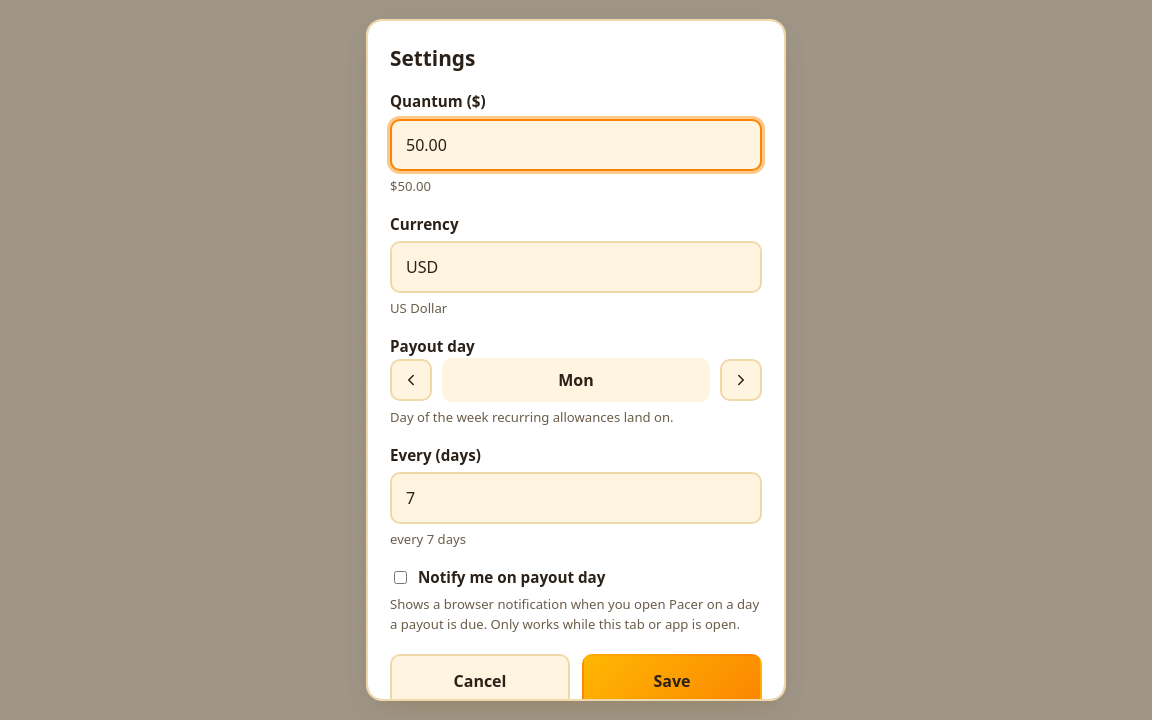
SettingsDialog › cycles the payout day with the chevrons
The image size is (1152, 720).
Click the button named "Next day" at (741, 380), box [720,359,762,401]
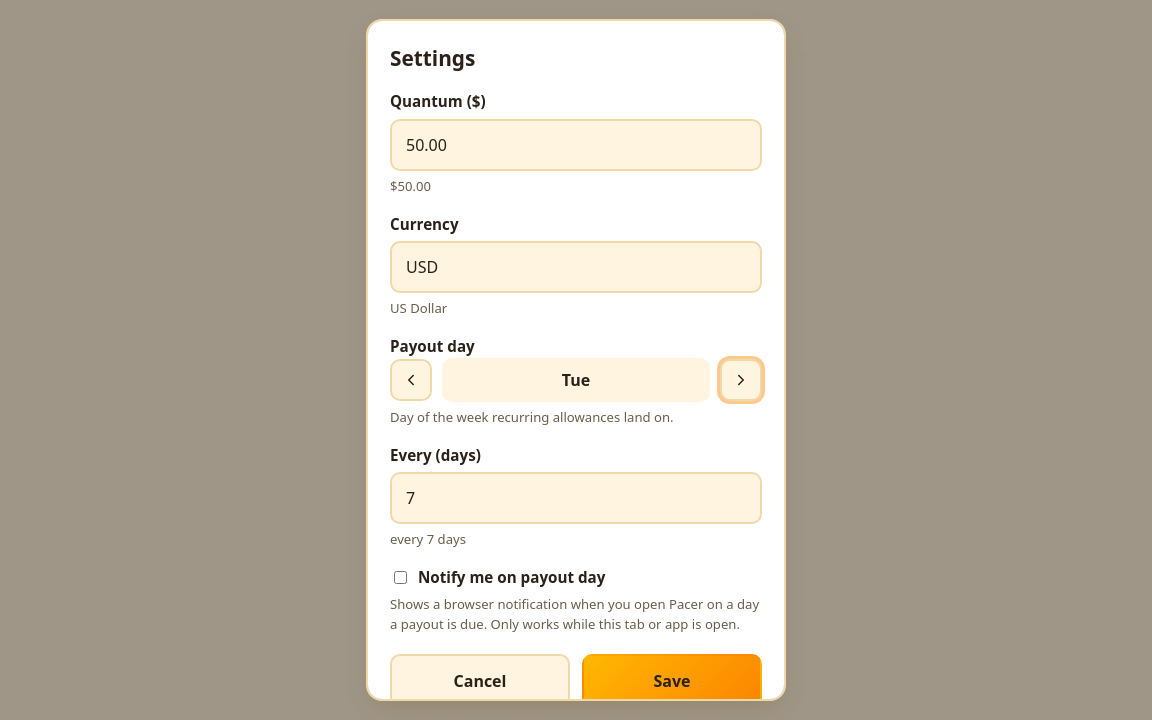
Check: the text "Tue" is shown, box [442,358,710,402]
Click the button named "Previous day" at (411, 380), box [390,359,432,401]
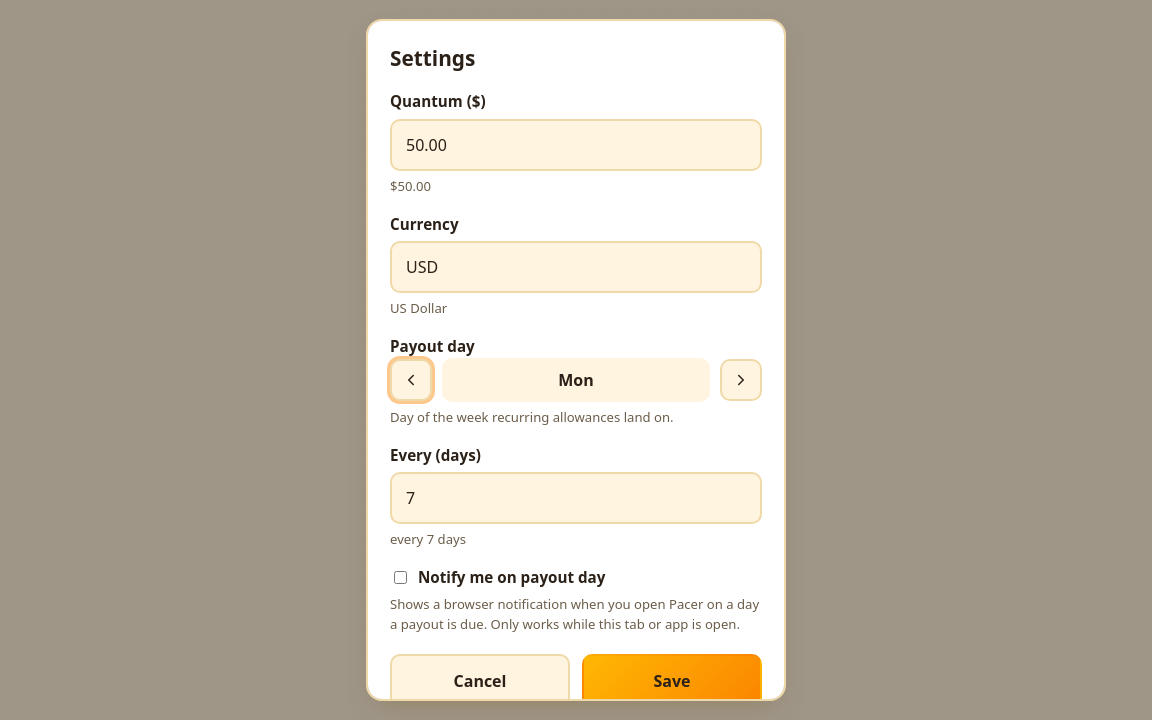
Check: the text "Mon" is shown, box [442,358,710,402]
